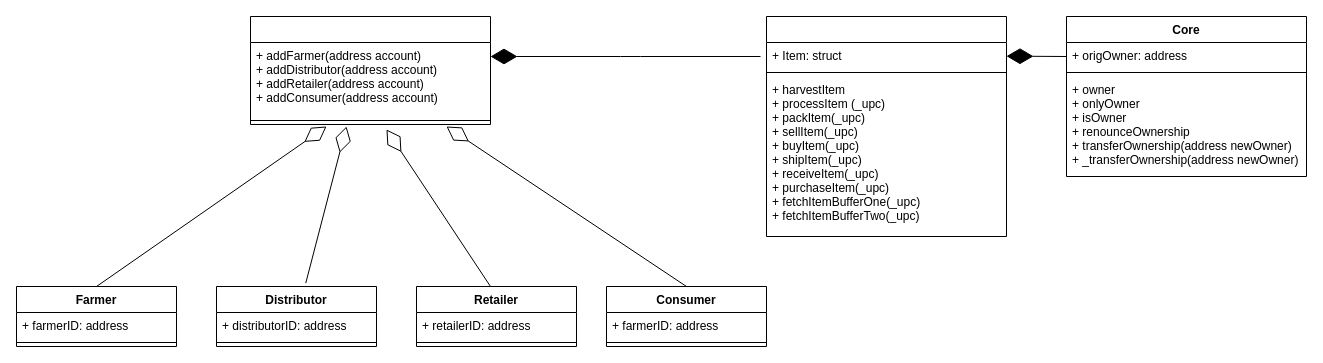
Some shapes in this 1323 by 363 pixel diagram are drawn without their labels. The box of each missing label's shape, as (x1, y1, x2, y2) in pixels:
Access Control: (250, 16, 490, 124)
Base: (766, 16, 1006, 236)
